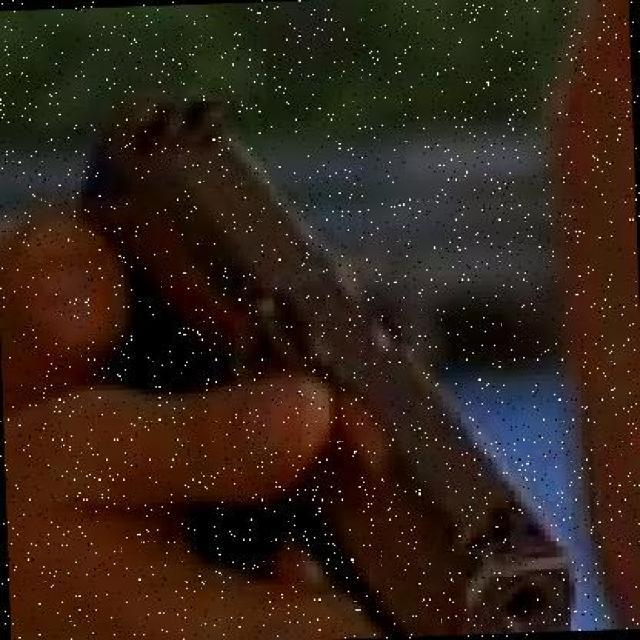rifle: (72, 81, 581, 588)
